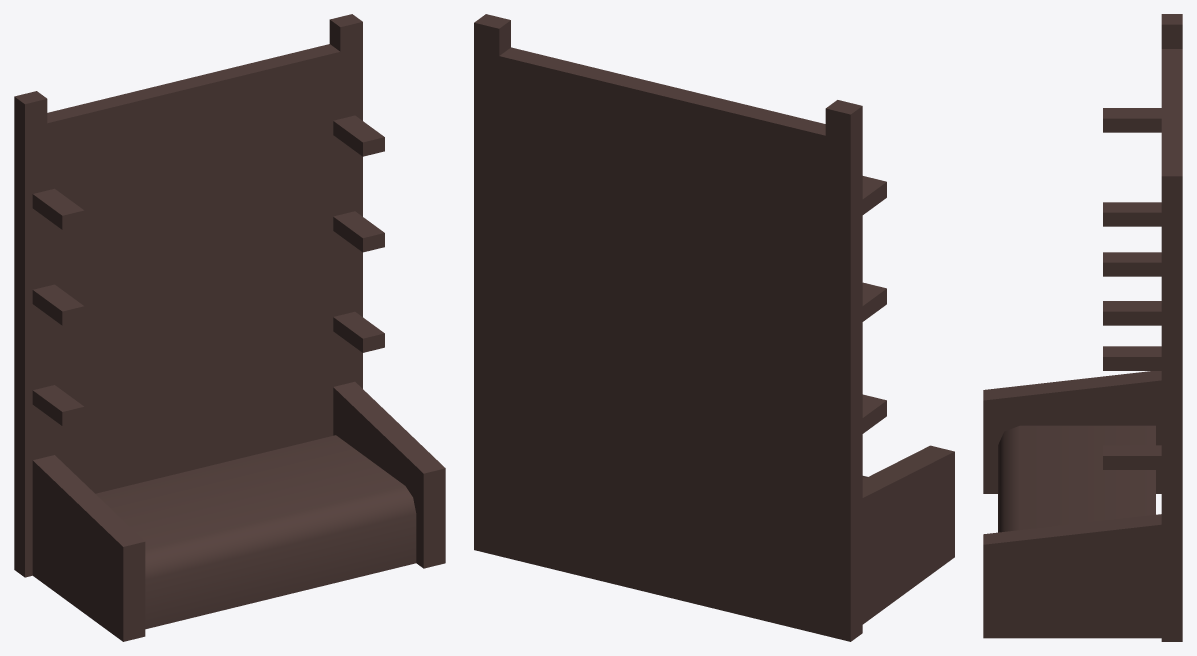
The model's file is GunRack.fbx.
3 renders of one model, left to right at view 1: azimuth 30°, elevation 25°; view 2: azimuth 150°, elevation 25°; view 3: azimuth 270°, elevation 25°, orthographic. The views are drawn at different scales.
Visible parts, largest first — view 1: Cube.058; view 2: Cube.058; view 3: Cube.058.
Boxes of the visible parts, x1,y1,x2,y2 form: Cube.058: (14,14,445,641); Cube.058: (474,14,954,641); Cube.058: (983,14,1182,641).
Size of the model in its own units: 1.21 by 1.62 by 0.6295.
